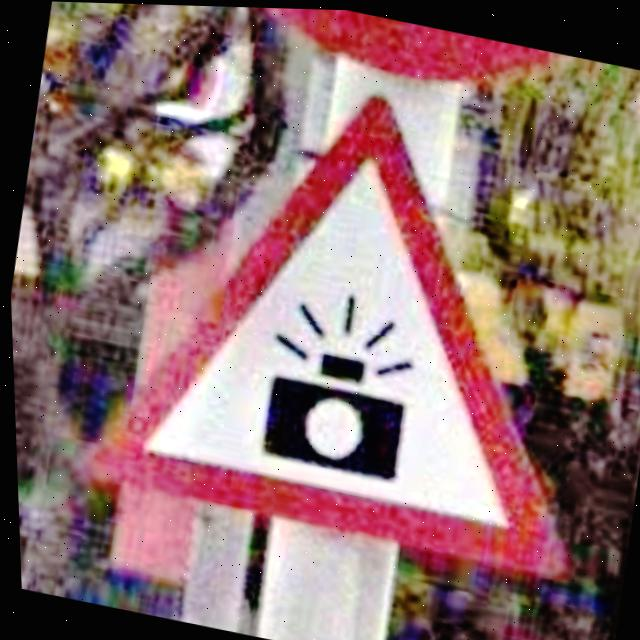speedcamera: (87, 92, 563, 576)
